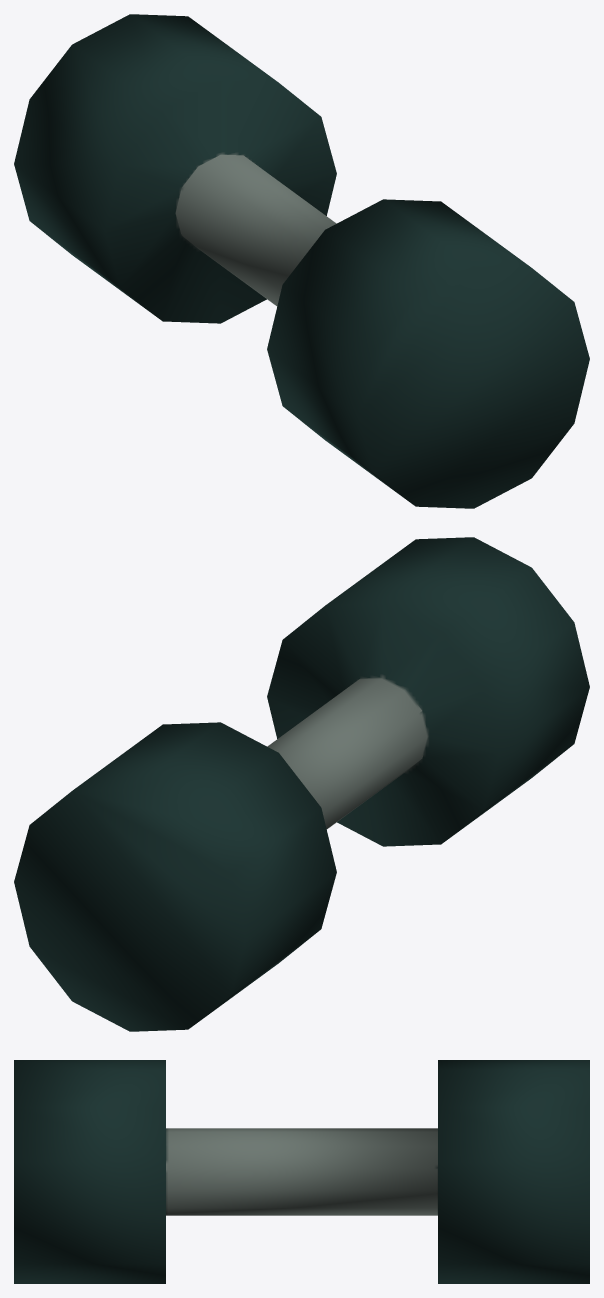
File: GANTEL.obj
3 renders of one model, top to bottom at view 1: azimuth 30°, elevation 25°; view 2: azimuth 150°, elevation 25°; view 3: azimuth 270°, elevation 25°, orthographic. The views are drawn at different scales.
Parts seen in each view (by area): view 1: Cylinder003; view 2: Cylinder003; view 3: Cylinder003.
Part boxes in pixels (bbox=[...]): Cylinder003: bbox=[14, 14, 589, 508]; Cylinder003: bbox=[14, 537, 589, 1031]; Cylinder003: bbox=[14, 1060, 589, 1283].
Bounding box in the file's own units: 71.06 × 71.06 × 182.
1 material, 1 textured.
